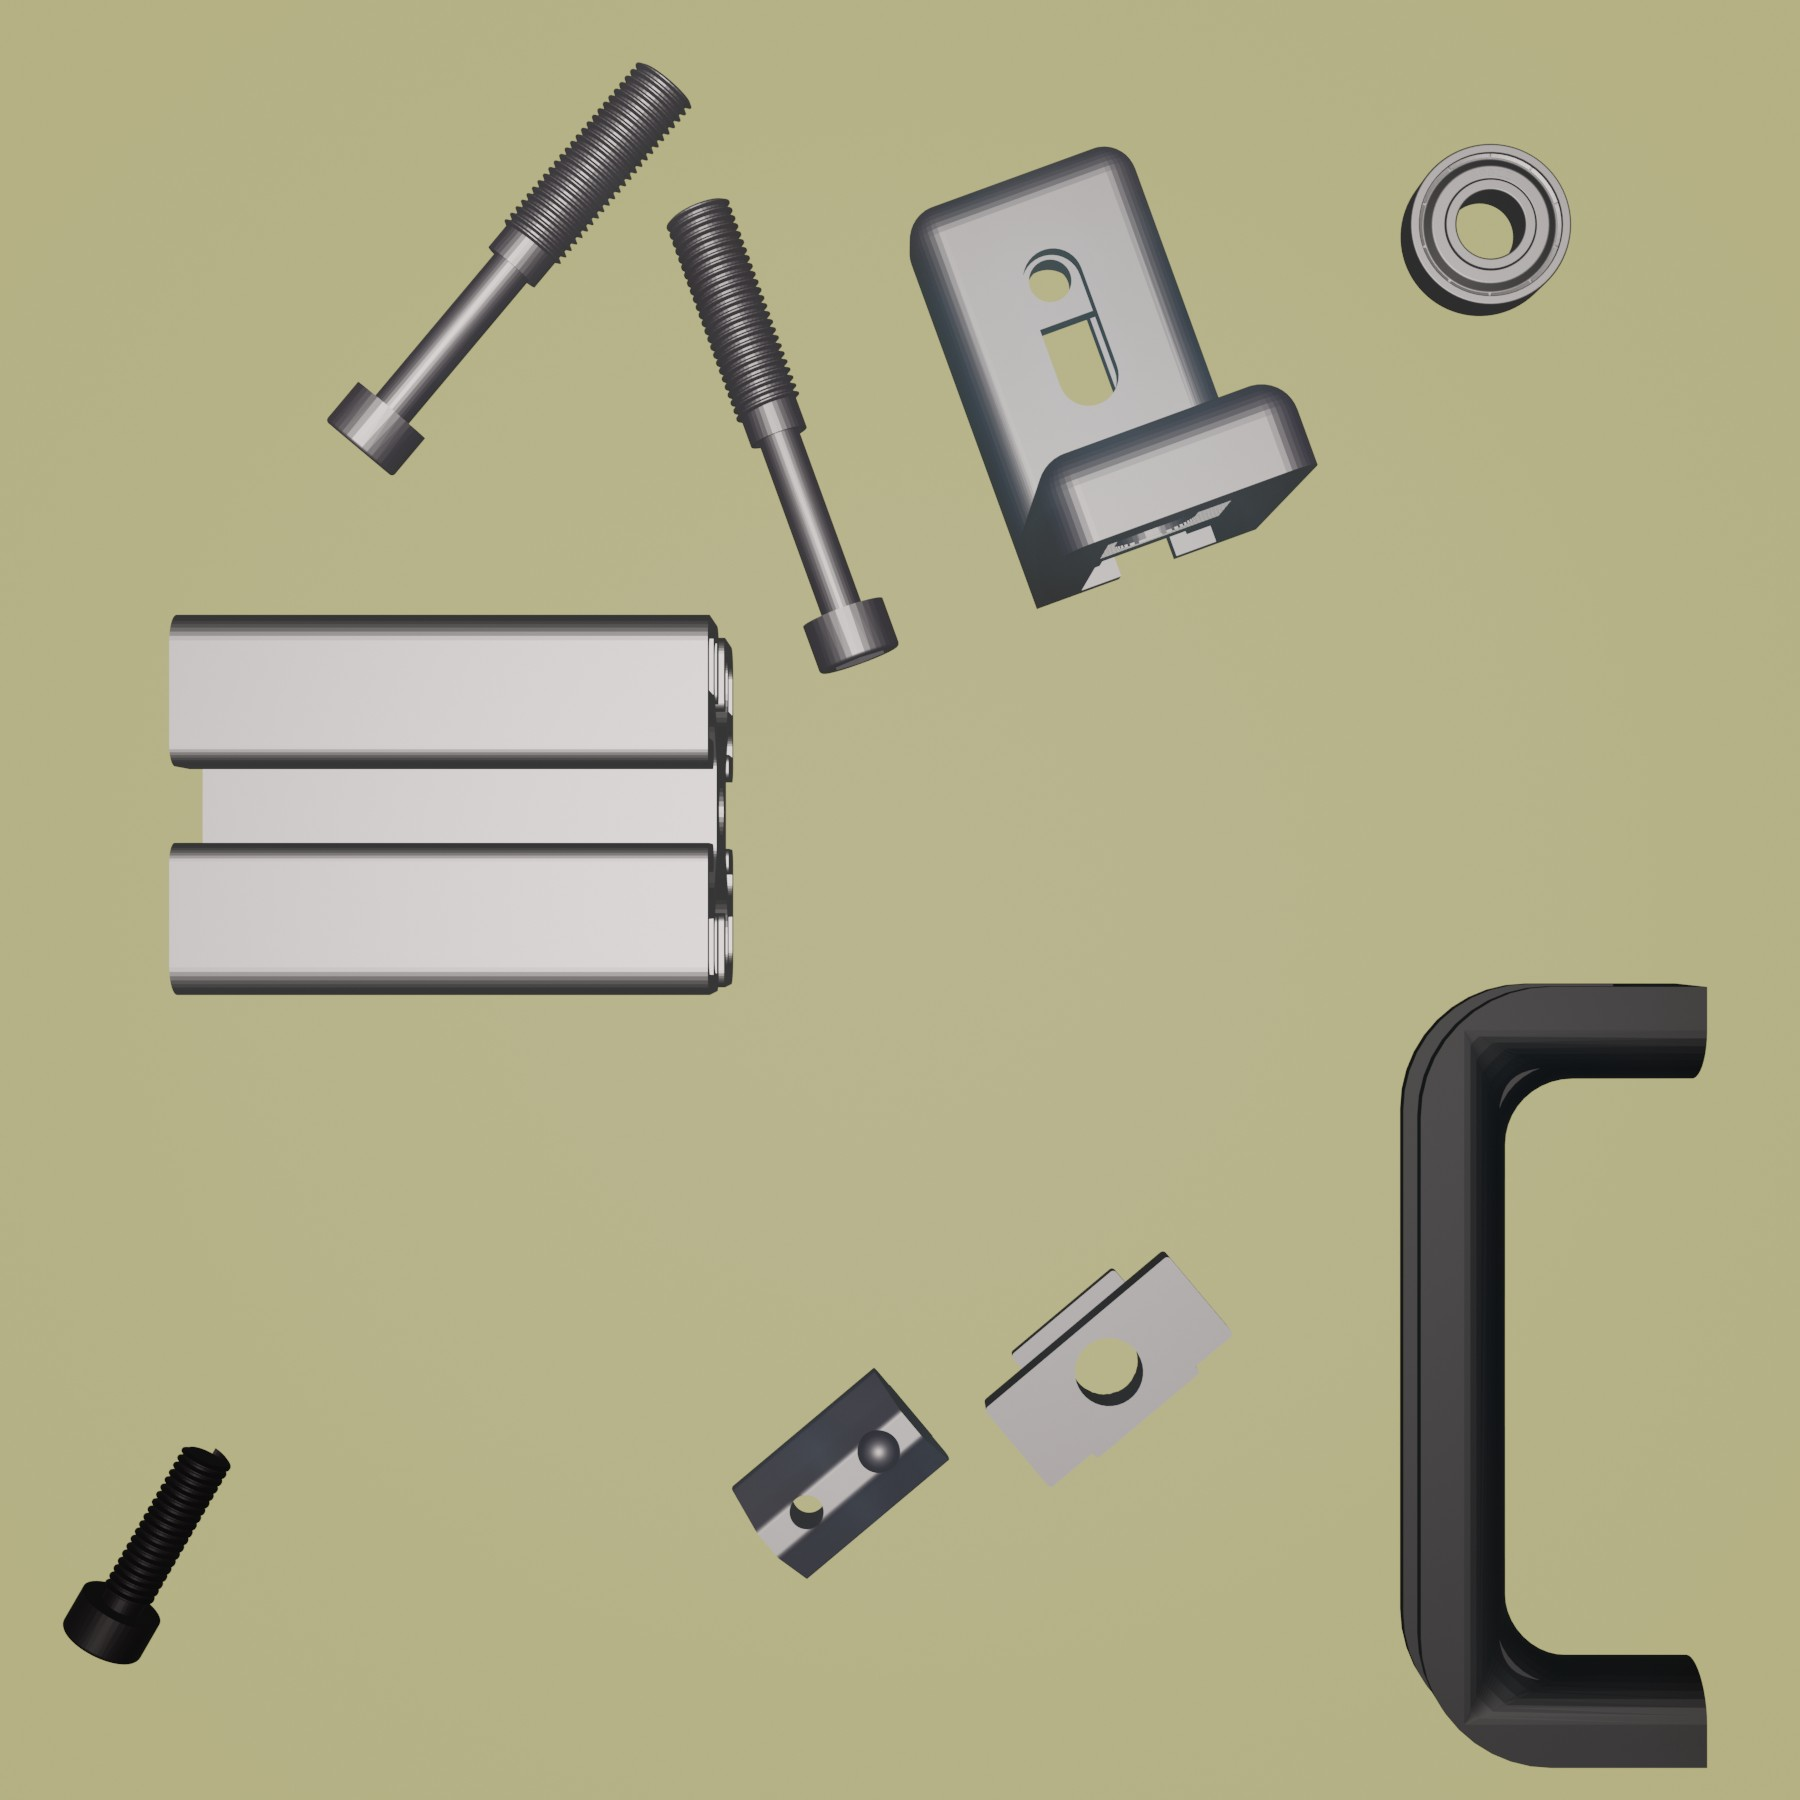Aluminium Extension: (163, 608, 738, 999)
Ball Bearing: (1398, 138, 1574, 318)
Multiwinkel: (908, 143, 1319, 612)
Pull Handle: (1391, 976, 1711, 1774)
Shoulder Socket Head Cap Screw: (325, 59, 694, 478), (663, 195, 902, 676)
T Nut Square: (982, 1241, 1236, 1488)
T Spring Nut: (730, 1362, 951, 1581), (61, 1442, 232, 1668)
